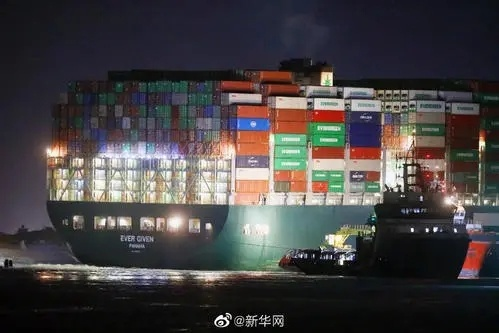Cargoship: (42, 54, 499, 265)
otherboat: (278, 169, 478, 273)
